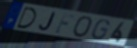4: (109, 21, 126, 44)
D: (16, 6, 38, 30)
F: (54, 13, 76, 34)
G: (91, 19, 111, 41)
J: (38, 12, 56, 32)
O: (72, 16, 93, 39)
